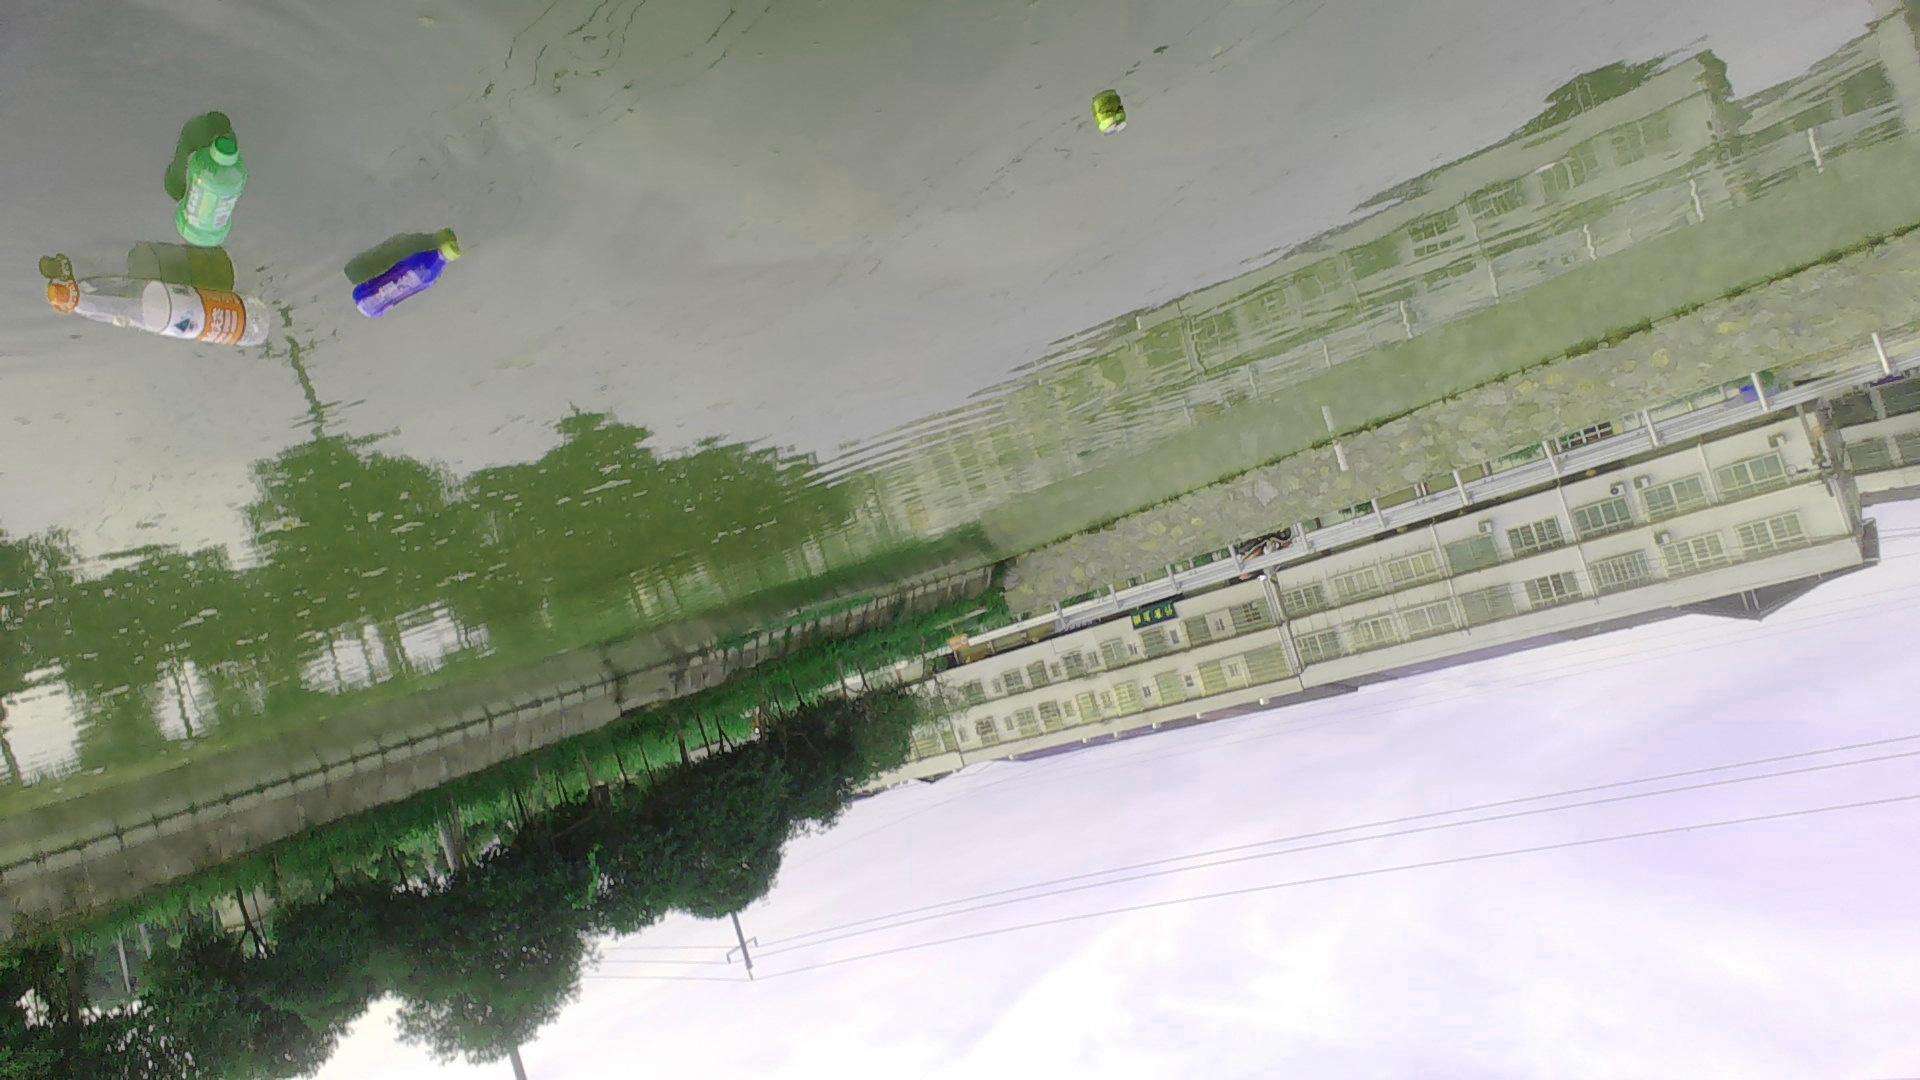Metal: (1084, 90, 1141, 150)
Plastic: (40, 272, 284, 353), (347, 231, 465, 332), (169, 131, 253, 256)
